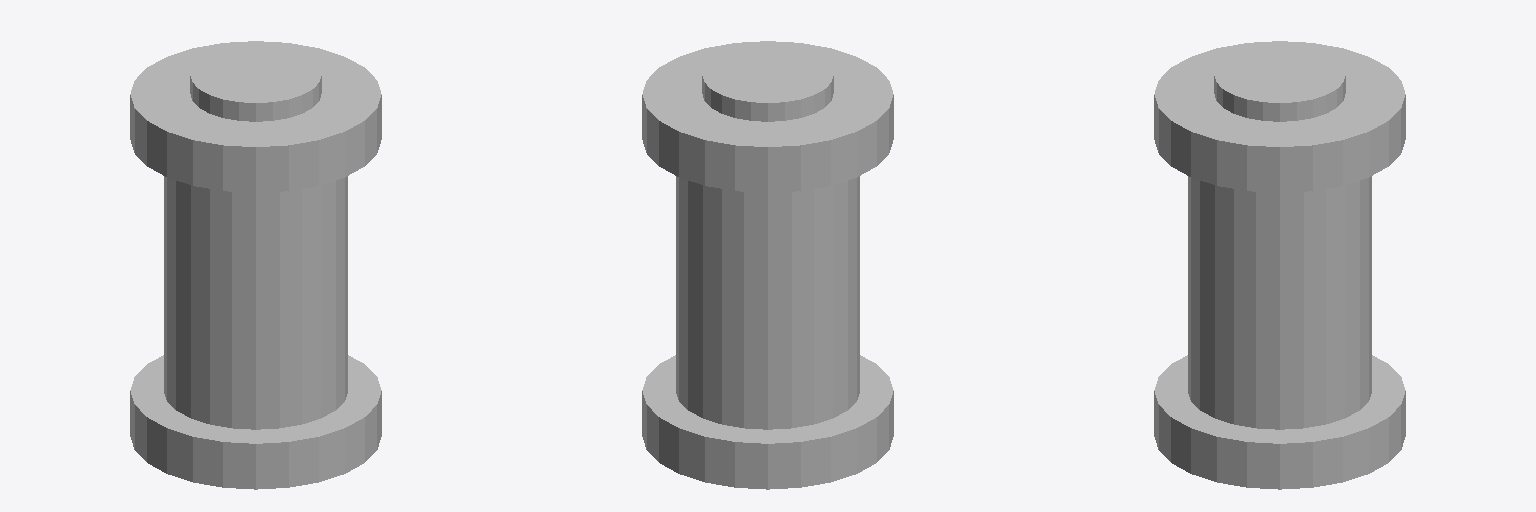
Rendered from Contenedor1.obj.
The picture shows the model from 3 angles: view 1: azimuth 30°, elevation 25°; view 2: azimuth 150°, elevation 25°; view 3: azimuth 270°, elevation 25°; orthographic projection.
Parts seen in each view (by area): view 1: Cilindro.001; view 2: Cilindro.001; view 3: Cilindro.001.
Boxes of the visible parts, box(x1,y1,x2,y2) form: Cilindro.001: box(130, 41, 381, 489); Cilindro.001: box(642, 41, 893, 489); Cilindro.001: box(1154, 41, 1405, 489).
Bounding box in the file's own units: 0.5912 × 0.9371 × 0.5912.